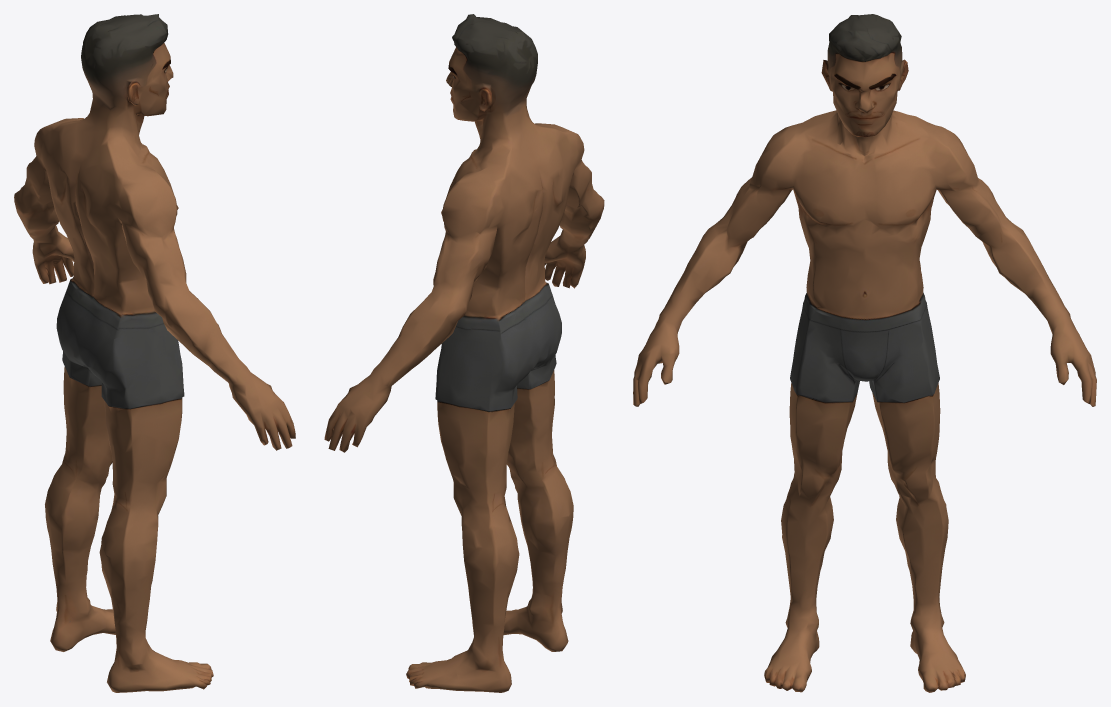
The model's file is 5955ad25-1bdd-4896-a4a8-68d75597873c_model_url.glb.
The picture shows the model from 3 angles, left to right: view 1: azimuth 30°, elevation 25°; view 2: azimuth 150°, elevation 25°; view 3: azimuth 270°, elevation 25°; orthographic projection.
Visible parts, largest first — view 1: tripo_node_5955ad25-1bdd-4896-a4a8-68d75597873c; view 2: tripo_node_5955ad25-1bdd-4896-a4a8-68d75597873c; view 3: tripo_node_5955ad25-1bdd-4896-a4a8-68d75597873c.
Boxes of the visible parts, box(x1,y1,x2,y2) form: tripo_node_5955ad25-1bdd-4896-a4a8-68d75597873c: box(14, 14, 295, 692); tripo_node_5955ad25-1bdd-4896-a4a8-68d75597873c: box(324, 14, 604, 692); tripo_node_5955ad25-1bdd-4896-a4a8-68d75597873c: box(633, 14, 1096, 692).
Bounding box in the file's own units: 0.1836 × 1 × 0.6444.
1 material, 1 textured.
